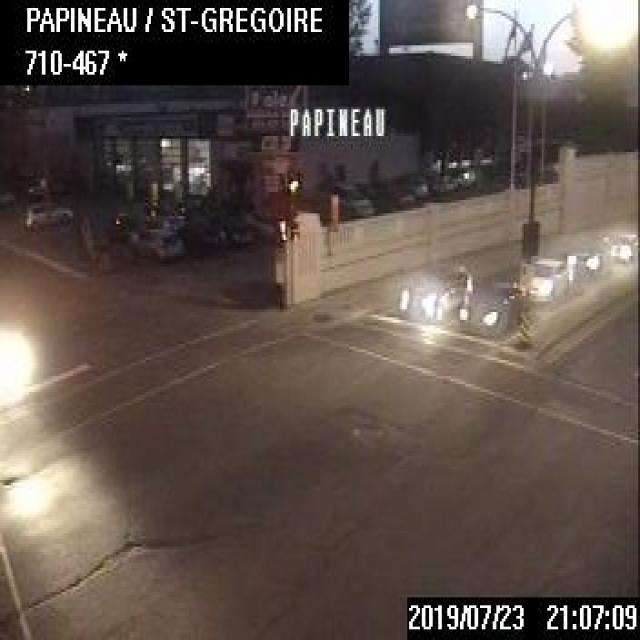vehicle: (396, 262, 471, 328), (462, 280, 528, 336), (516, 254, 563, 304), (127, 224, 182, 262), (562, 229, 608, 271), (22, 199, 72, 232), (328, 180, 372, 215), (605, 232, 638, 262)
